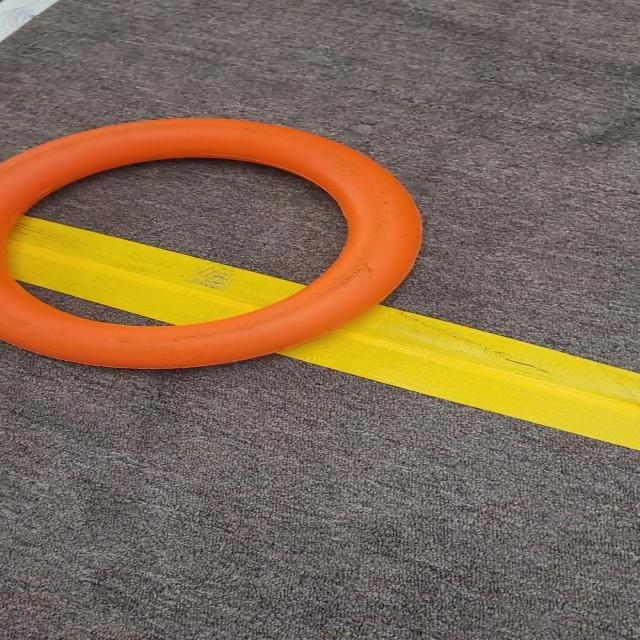note: (0, 114, 435, 382)
